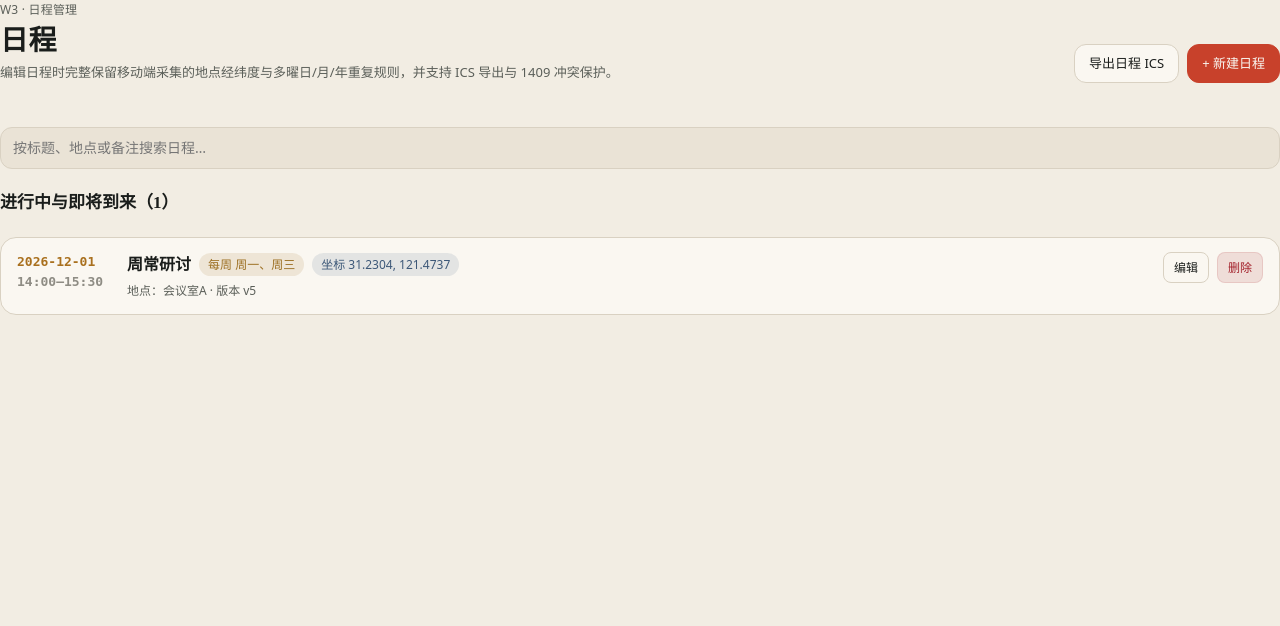
Test: Core views: XSS neutralization, 1409 conflict reload/merge, and B5 trust copy › renders real SchedulesPage UI -> edits legacy days weekly rule -> handles 1409 conflict -> sends canonical weekdays + latest server extensions on second PUT (R4
This screenshot has width=1280, height=626.
Later steps or results of the test are not shown.
Click the button "编辑" at {"x": 1186, "y": 267}, box [1163, 252, 1209, 283]
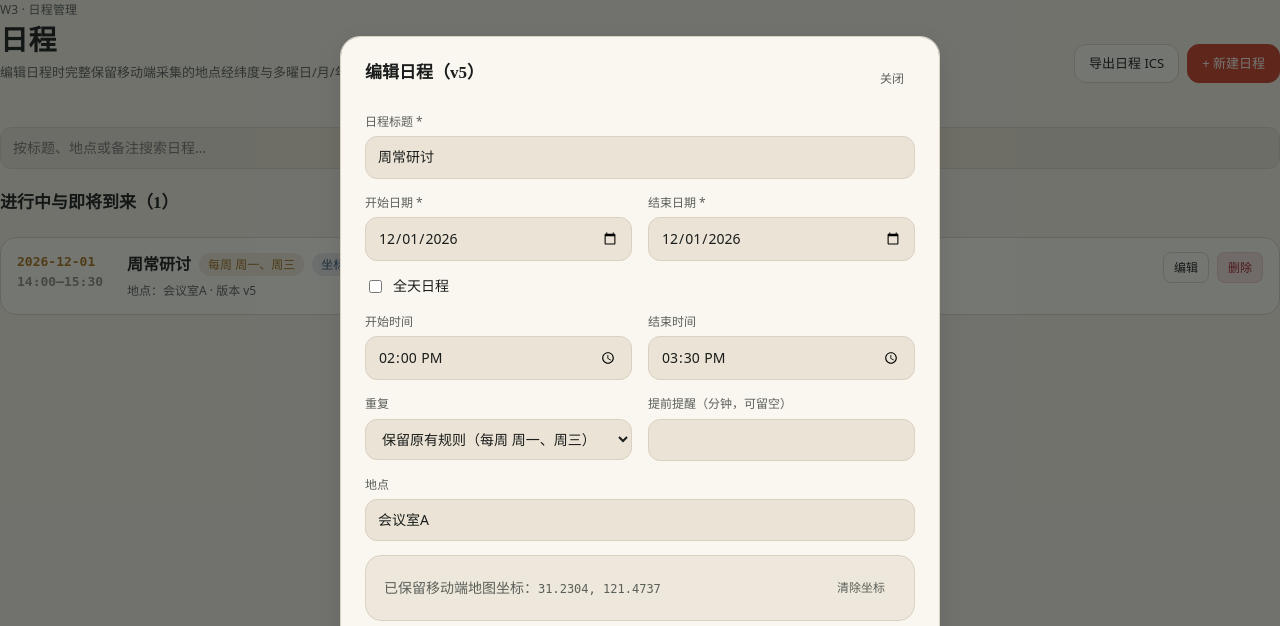
Select "每周（可选多星期）" in the dropdown labelled "重复" at {"x": 498, "y": 439}, box [365, 418, 632, 460]
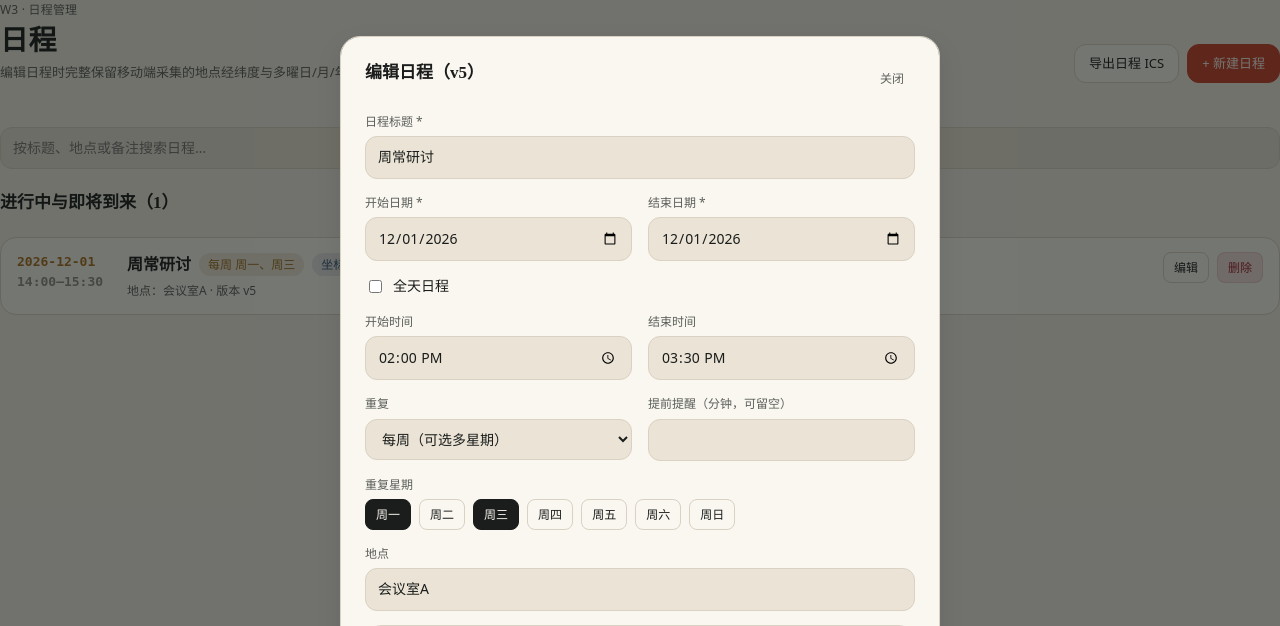
Now the button "周五" is shown
Click the button "周五" at {"x": 604, "y": 515}, box [581, 499, 627, 530]
(page scrolled)
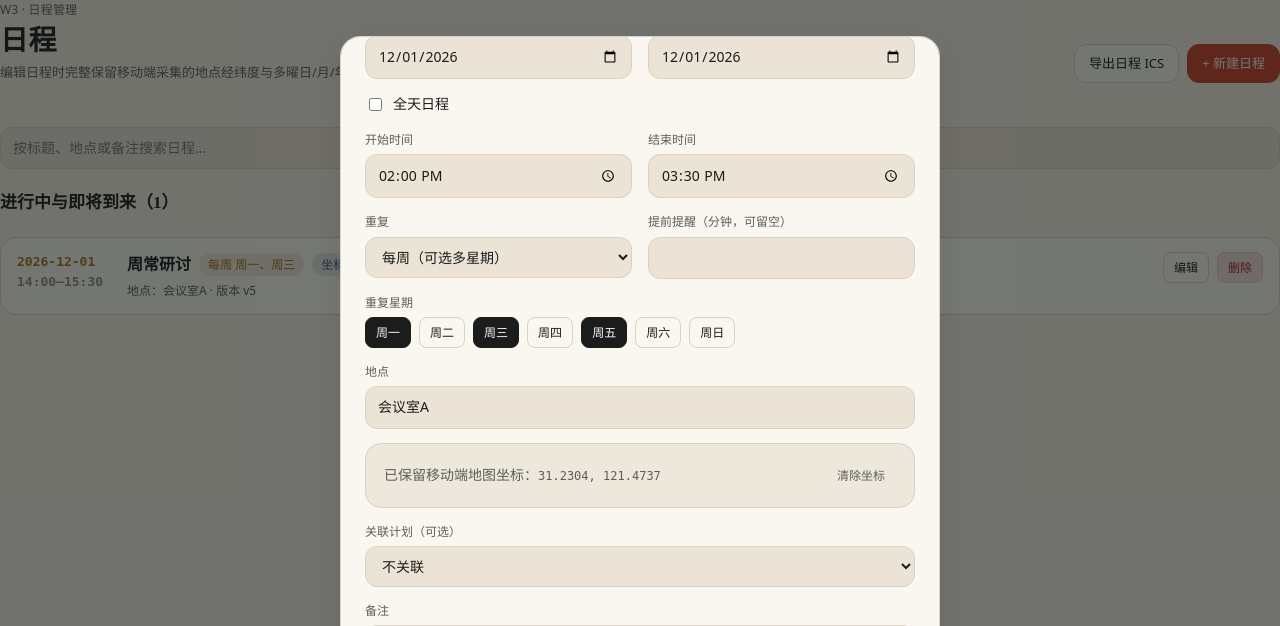
Submit the form
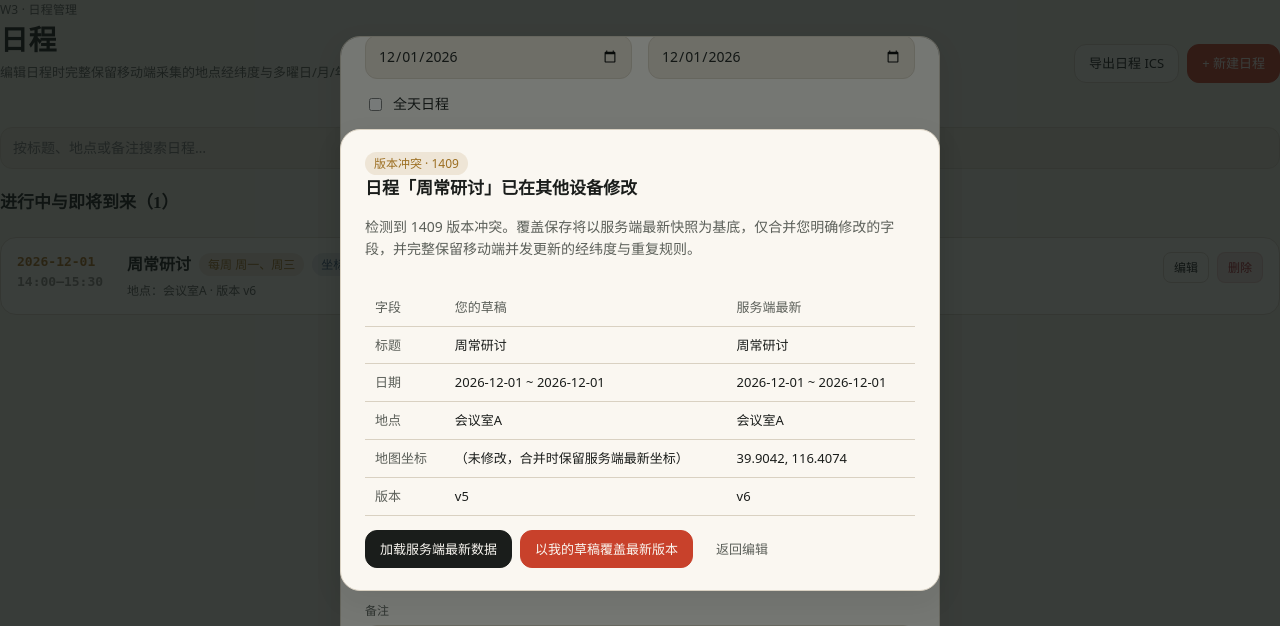
Now the text "已在其他设备修改" is shown, box [365, 179, 637, 198]
Now the button "以我的草稿覆盖最新版本" is shown, box [520, 530, 693, 568]
